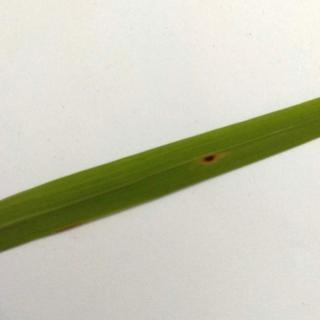bercak-Cokelat: (198, 151, 220, 166)
